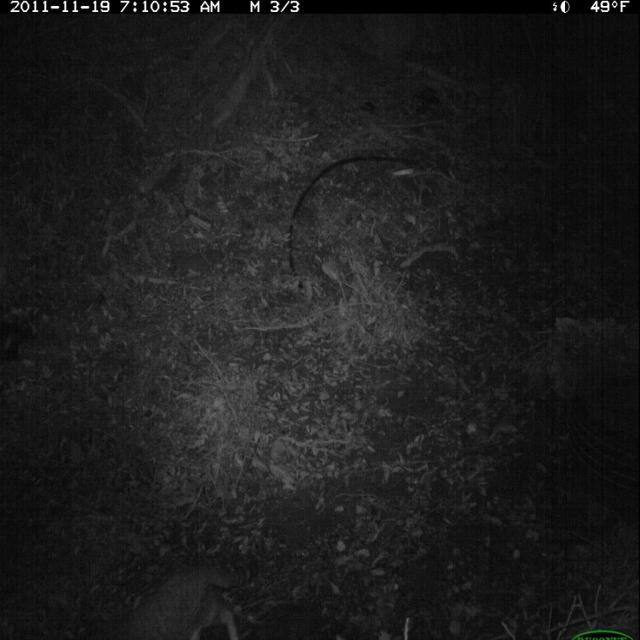cat: (100, 545, 271, 640)
